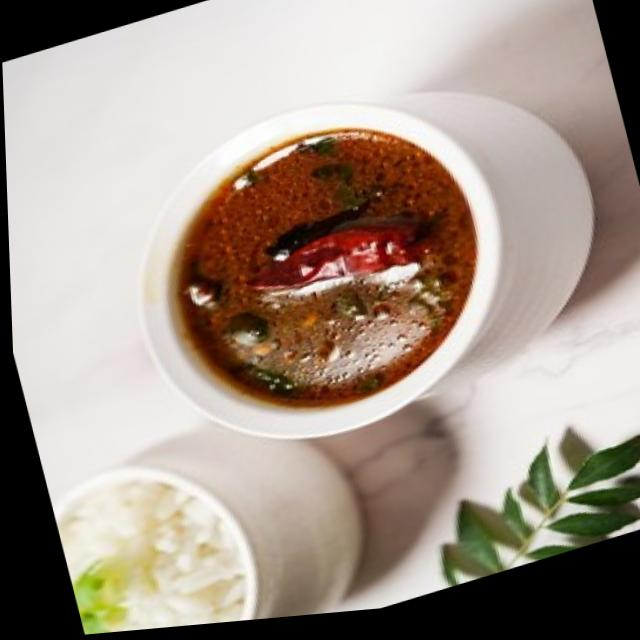RASAM: (174, 134, 468, 391)
